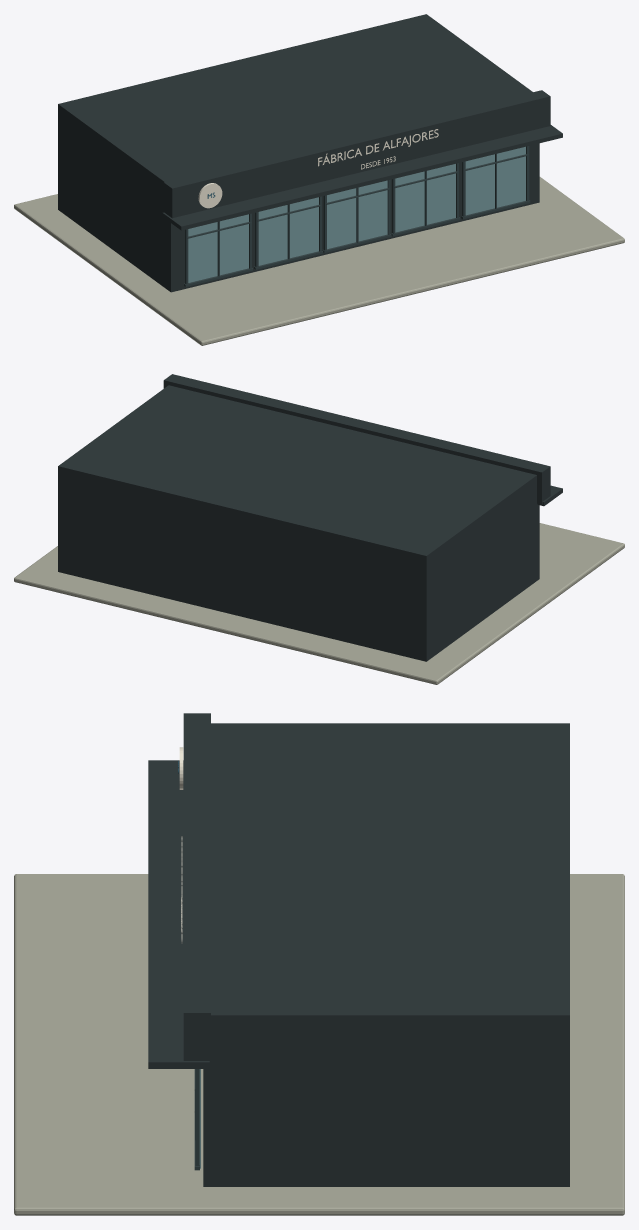
Rendered from gms-44.glb.
3 renders of one model, top to bottom at view 1: azimuth 30°, elevation 25°; view 2: azimuth 150°, elevation 25°; view 3: azimuth 270°, elevation 25°, orthographic. The views are drawn at different scales.
Visible parts, largest first — view 1: Low contemporary factory museum, Context plinth, Museum front glazing recess, Museum front glazing jamb, Factory white raised lettering; view 2: Low contemporary factory museum, Context plinth; view 3: Low contemporary factory museum, Context plinth.
Part boxes in pixels (x1=…): Low contemporary factory museum: x1=58, y1=14, x2=562, y2=292; Context plinth: x1=14, y1=177, x2=624, y2=345; Museum front glazing recess: x1=188, y1=146, x2=525, y2=282; Museum front glazing jamb: x1=184, y1=146, x2=530, y2=286; Factory white raised lettering: x1=198, y1=129, x2=438, y2=208; Low contemporary factory museum: x1=58, y1=374, x2=562, y2=661; Context plinth: x1=14, y1=523, x2=624, y2=684; Low contemporary factory museum: x1=148, y1=713, x2=569, y2=1186; Context plinth: x1=14, y1=874, x2=624, y2=1215.
Bounding box in the file's own units: 13 × 3.35 × 10.
